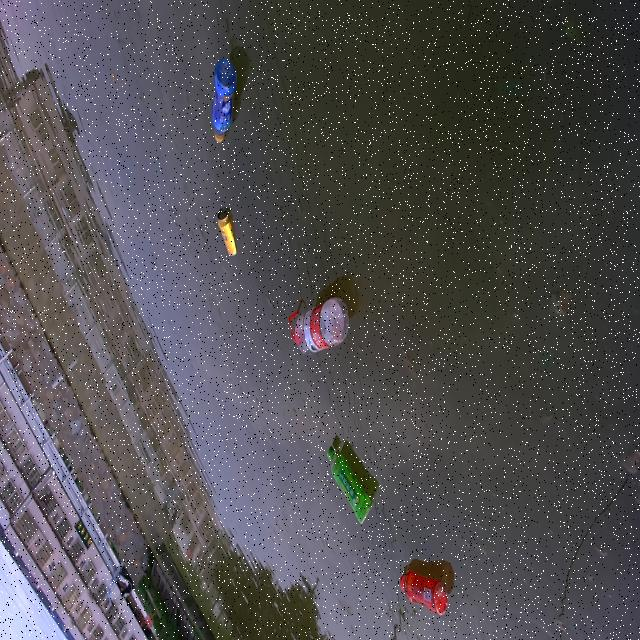Bottle: (322, 438, 374, 527), (286, 292, 353, 360), (208, 49, 238, 148), (397, 567, 450, 616)
Can: (213, 202, 240, 257)
